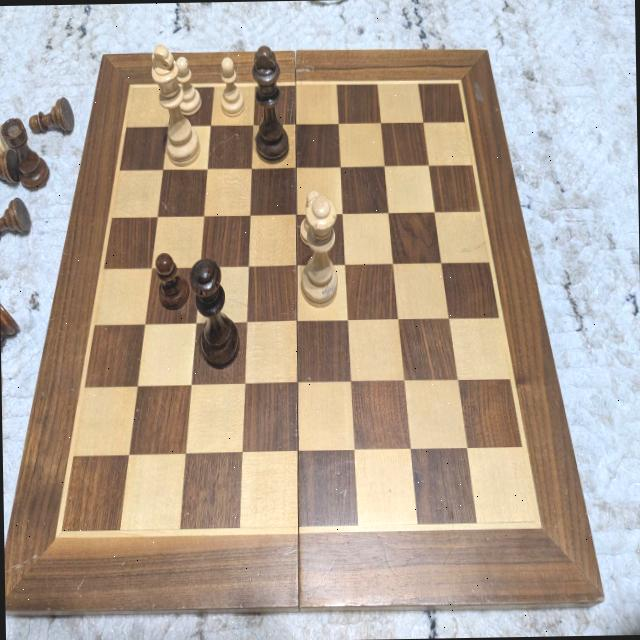black_king: (250, 45, 290, 161)
black_pawn: (154, 253, 190, 310)
black_queen: (191, 258, 240, 366)
white_king: (150, 44, 200, 166)
white_pawn: (174, 55, 202, 116), (219, 55, 244, 115), (298, 187, 322, 243)
white_queen: (300, 195, 336, 308)
